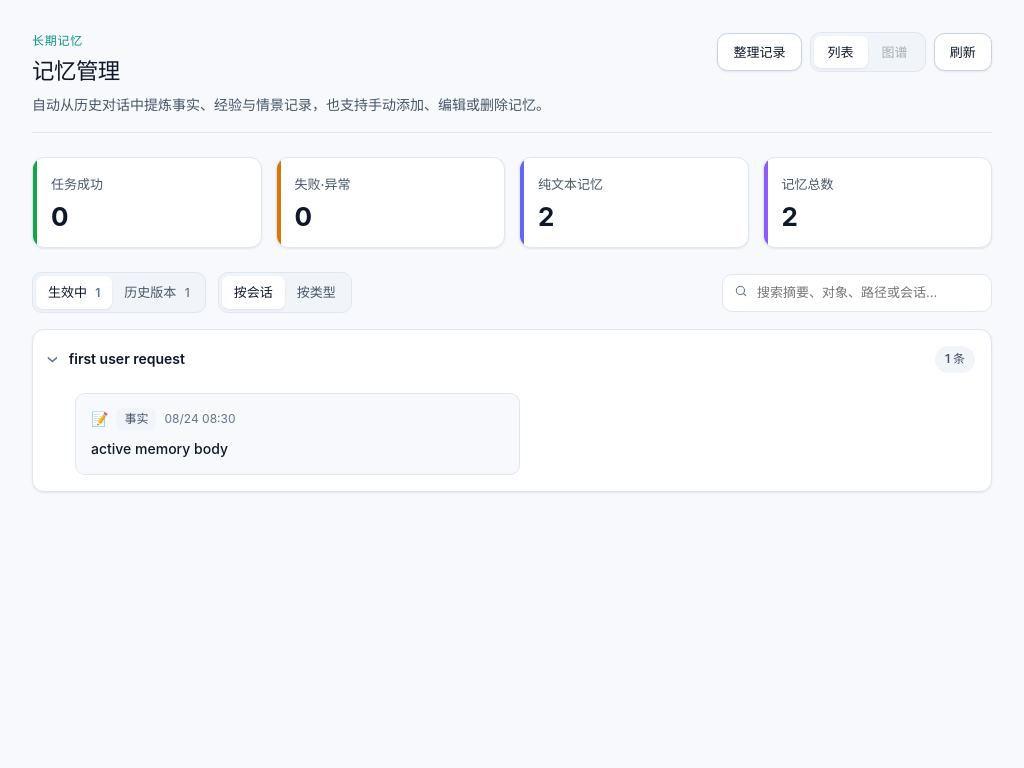
Test: MemoryPage › opens a read-only detail and lazy-loads history without mutation controls
Click the button with aria-label "查看记忆 active memory body" at (136, 419), box [75, 393, 520, 475]
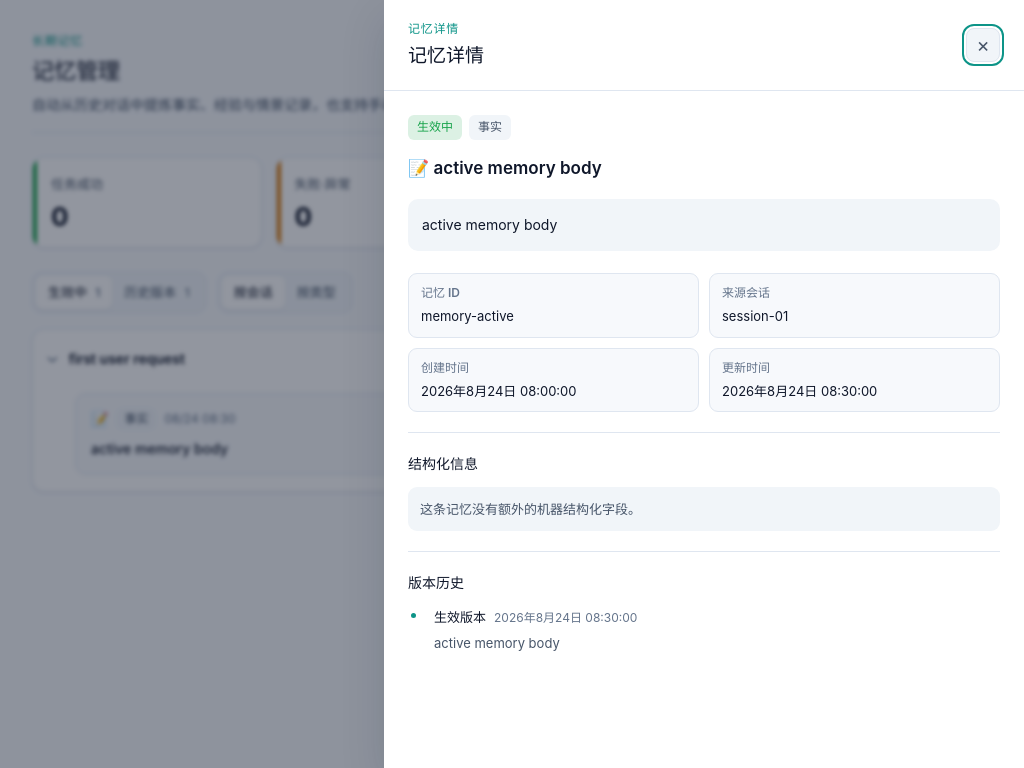
Now the dialog "记忆详情" is shown
Now the heading "版本历史" is shown, box [408, 574, 464, 591]
